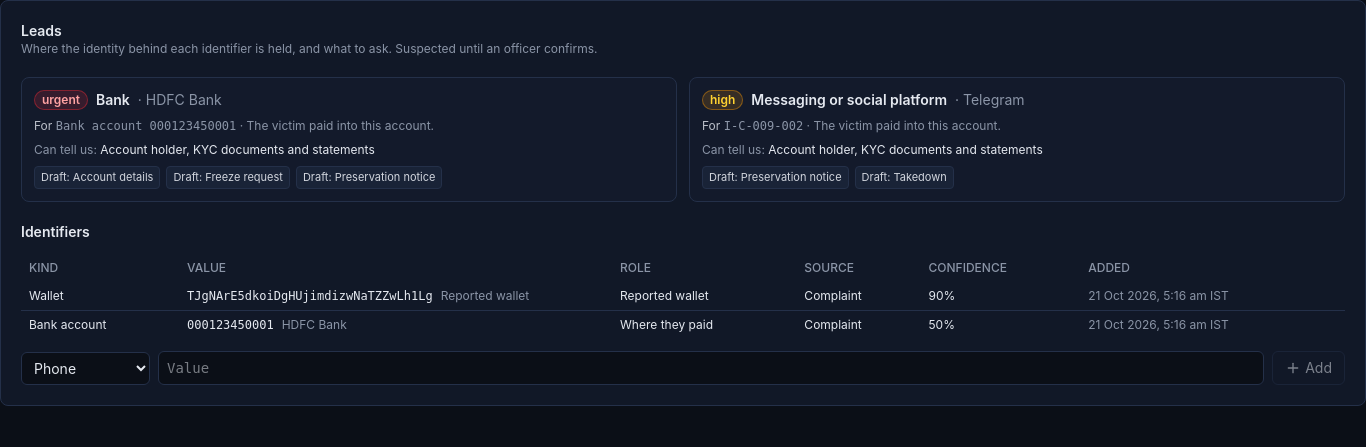
Test: the leads panel › shows why an identifier was refused
Step 1. Type "9800012345" into the field labelled "Value" → (711, 368), box [158,350,1264,384]
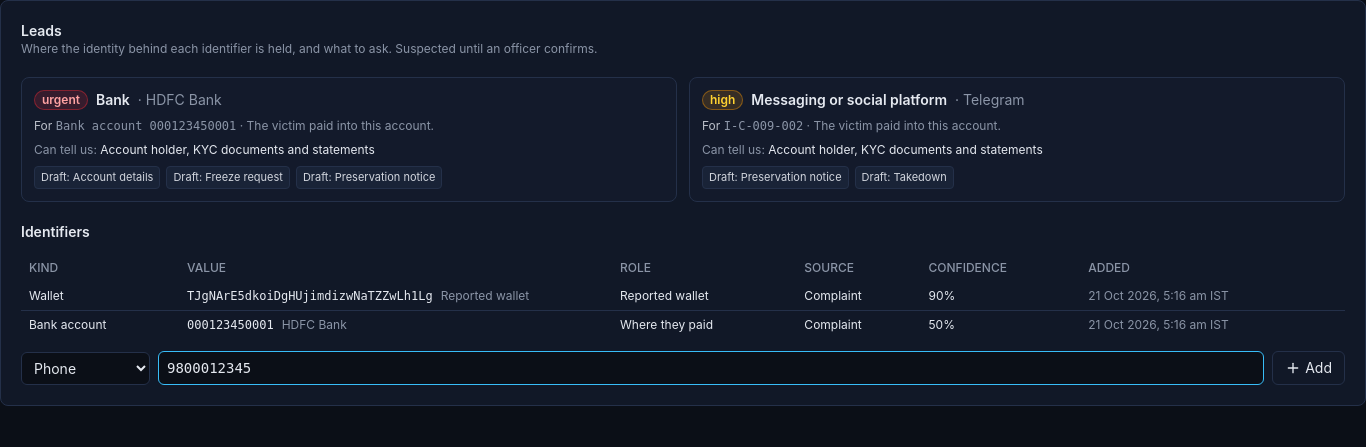
Step 2. Click the button "Add" → (1309, 368), box [1272,350,1345,384]
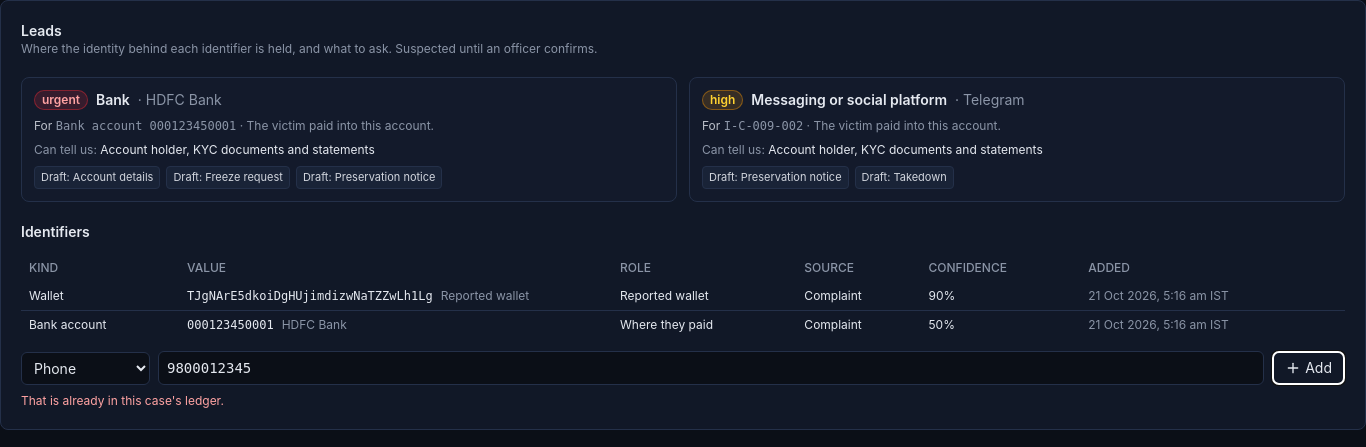
Now the message shows "already in this case's ledger", box [21,392,224,408]
